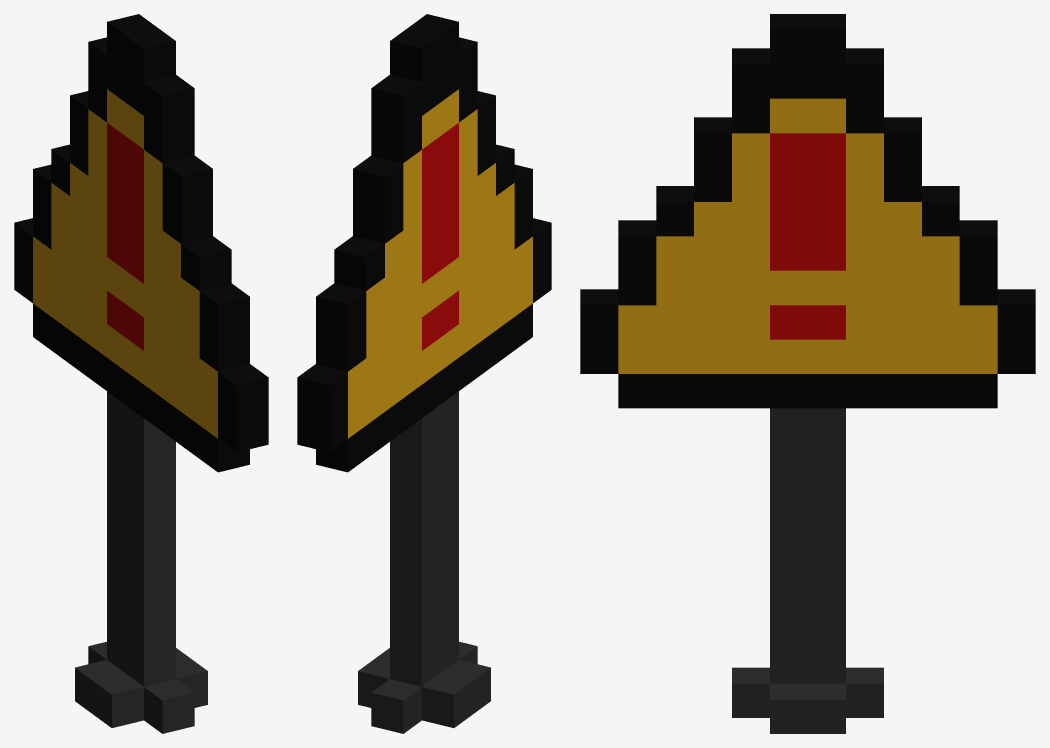
File: sign-1.obj
3 views of the same model, side by side, from view 1: azimuth 30°, elevation 25°; view 2: azimuth 150°, elevation 25°; view 3: azimuth 270°, elevation 25° (orthographic). The views are drawn at different scales.
Bounding box in the file's own units: 1.2 × 8 × 4.8.
1 material, 1 textured.
